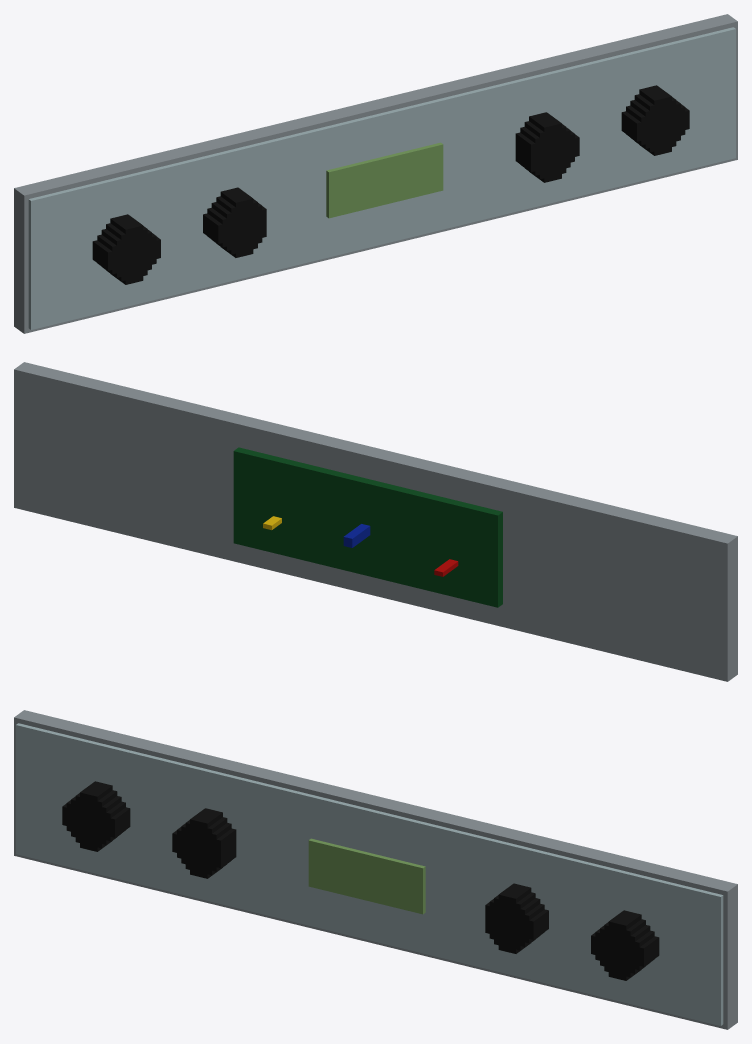
The model's file is oven_controls.glb.
3 renders of one model, top to bottom at view 1: azimuth 30°, elevation 25°; view 2: azimuth 150°, elevation 25°; view 3: azimuth 330°, elevation 25°, orthographic.
Parts seen in each view (by area): view 1: oven_controls:compound; view 2: oven_controls:compound; view 3: oven_controls:compound.
Boxes of the visible parts, box(x1,y1,x2,y2) form: oven_controls:compound: box(14, 14, 737, 333); oven_controls:compound: box(14, 362, 737, 681); oven_controls:compound: box(14, 710, 737, 1029).
Size of the model in its own units: 0.648 by 0.12 by 0.08.
